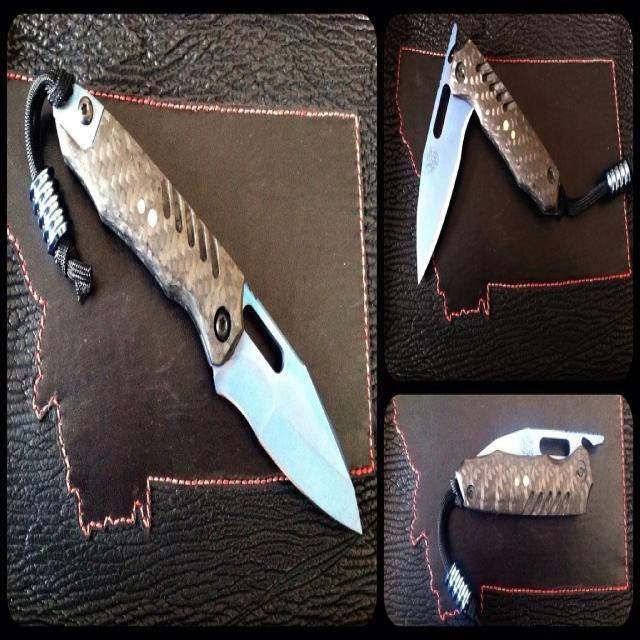Knife: (52, 84, 361, 532), (416, 25, 560, 282), (455, 428, 604, 516), (446, 560, 472, 609)
